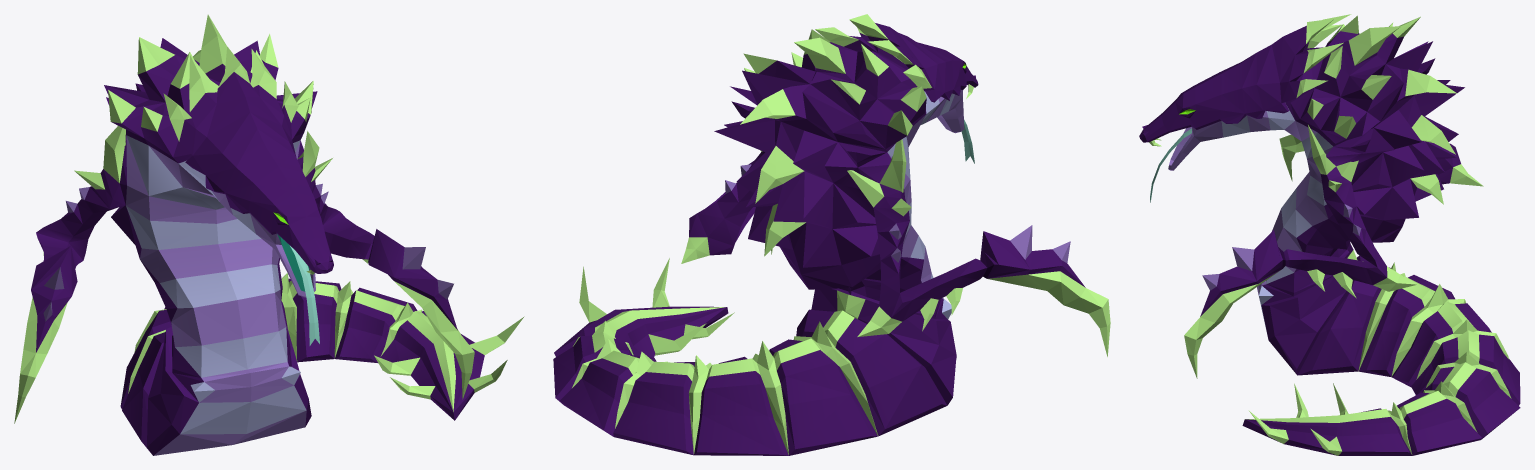
File: Idle (27).obj
3 views of the same model, side by side, from view 1: azimuth 30°, elevation 25°; view 2: azimuth 150°, elevation 25°; view 3: azimuth 270°, elevation 25° (orthographic). The views are drawn at different scales.
Parts seen in each view (by area): view 1: Alien_Serpent; view 2: Alien_Serpent; view 3: Alien_Serpent.
Boxes of the visible parts, box(x1,y1,x2,y2) form: Alien_Serpent: box(14, 14, 524, 455); Alien_Serpent: box(553, 14, 1110, 455); Alien_Serpent: box(1139, 14, 1520, 455).
Size of the model in its own units: 299 by 211 by 216.
Materials: 1 (1 with a texture image).
